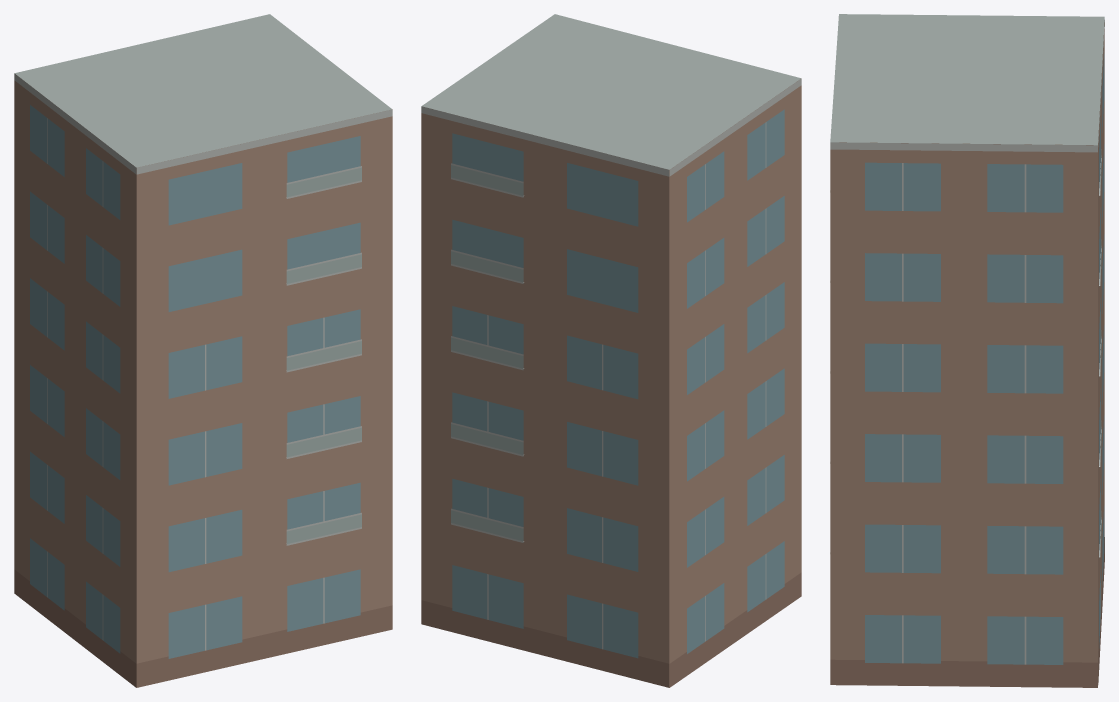
File: survey-upis-32915855.glb
3 views of the same model, side by side, from view 1: azimuth 30°, elevation 25°; view 2: azimuth 150°, elevation 25°; view 3: azimuth 270°, elevation 25° (orthographic). The views are drawn at different scales.
Visible parts, largest first — view 1: survey-upis-32915855.tmp; view 2: survey-upis-32915855.tmp; view 3: survey-upis-32915855.tmp.
Boxes of the visible parts, x1,y1,x2,y2 form: survey-upis-32915855.tmp: (14, 14, 392, 687); survey-upis-32915855.tmp: (421, 14, 801, 687); survey-upis-32915855.tmp: (830, 14, 1104, 687).
Size of the model in its own units: 9.49 by 18.3 by 8.4.
